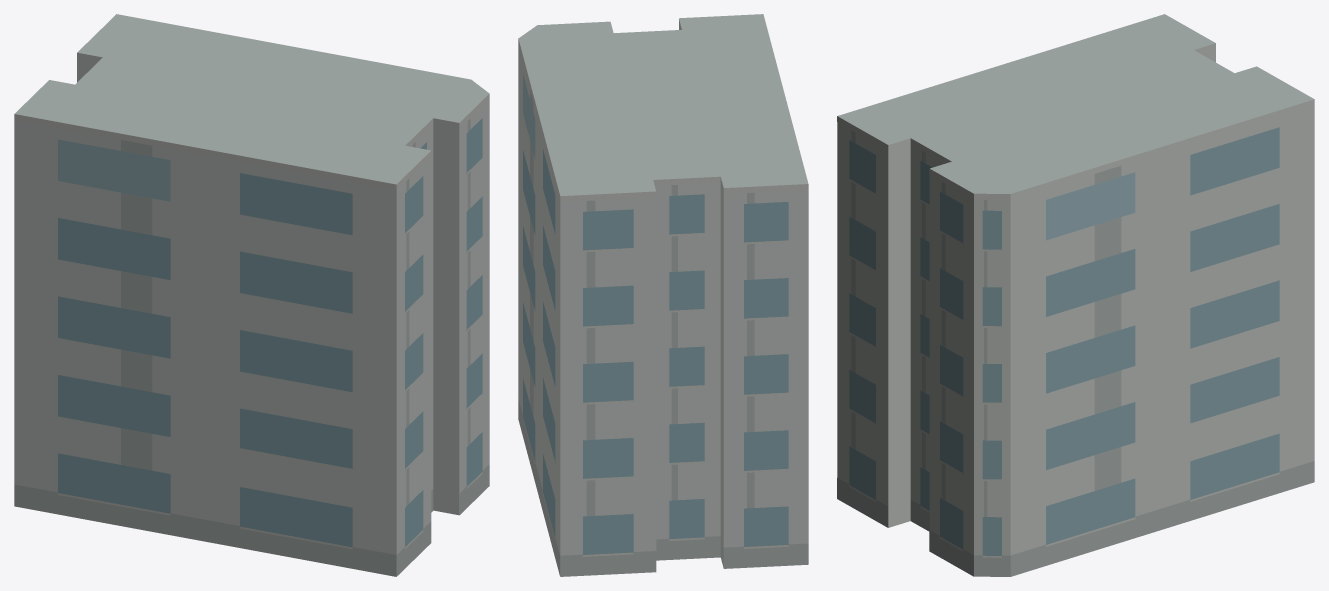
The model's file is survey-upis-32823541.glb.
3 renders of one model, left to right at view 1: azimuth 30°, elevation 25°; view 2: azimuth 150°, elevation 25°; view 3: azimuth 270°, elevation 25°, orthographic. The views are drawn at different scales.
Visible parts, largest first — view 1: survey-upis-32823541.tmp; view 2: survey-upis-32823541.tmp; view 3: survey-upis-32823541.tmp.
Part boxes in pixels (<box>): survey-upis-32823541.tmp: <box>14,14,489,576</box>; survey-upis-32823541.tmp: <box>518,14,808,576</box>; survey-upis-32823541.tmp: <box>837,14,1314,576</box>.
Size of the model in its own units: 15.43 by 15.3 by 17.3.
